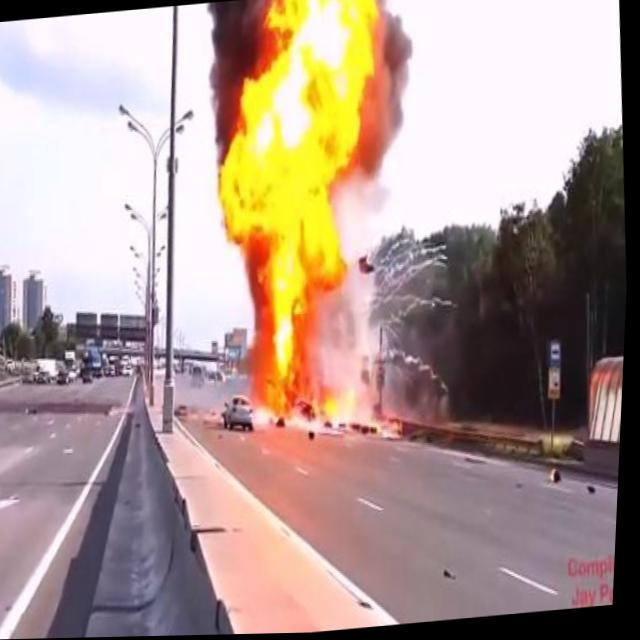fire: (192, 0, 412, 442)
